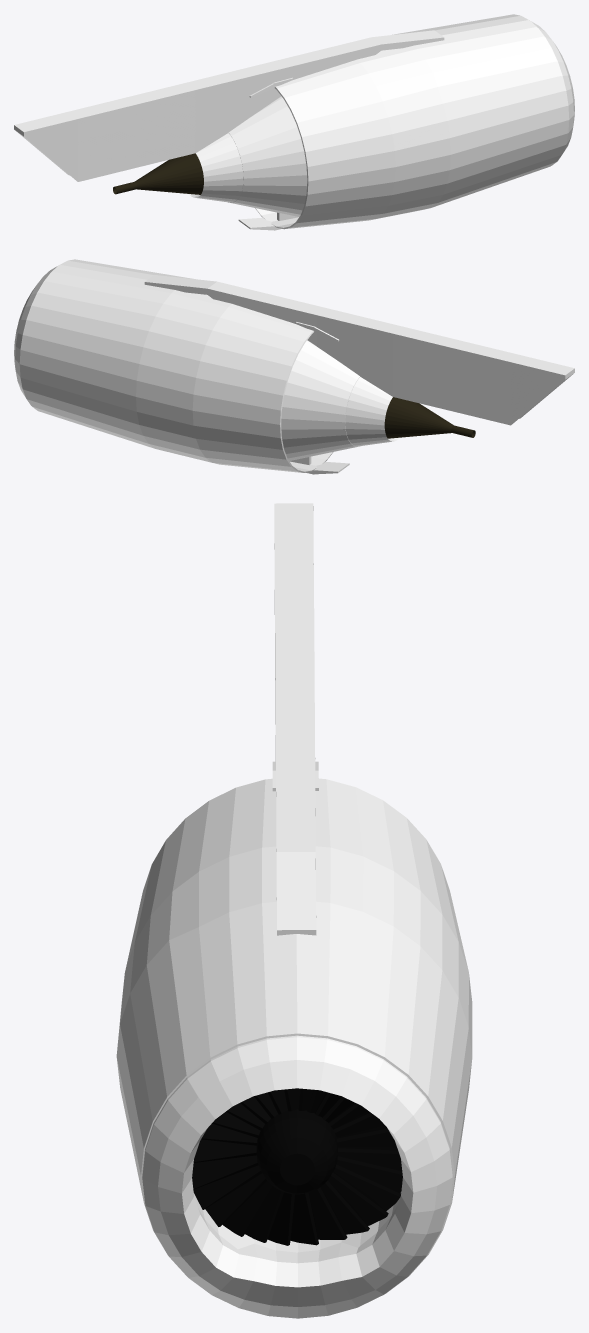
3 renders of one model, top to bottom at view 1: azimuth 30°, elevation 25°; view 2: azimuth 150°, elevation 25°; view 3: azimuth 270°, elevation 25°, orthographic. The views are drawn at different scales.
Parts seen in each view (by area): view 1: 円柱, 立方体.003, 円柱.004, 円柱.005, 円柱.006, 円柱.003, 立方体.001; view 2: 円柱, 立方体.003, 円柱.004, 円柱.005, 円柱.006, 円柱.003, 立方体.001; view 3: 円柱, 円柱.003, 円柱.007, 立方体.003.
Boxes of the visible parts, bbox=[...] form: 円柱: bbox=[255, 14, 567, 229]; 立方体.003: bbox=[14, 30, 444, 181]; 円柱.004: bbox=[228, 96, 307, 216]; 円柱.005: bbox=[189, 133, 243, 202]; 円柱.006: bbox=[113, 153, 203, 194]; 円柱.003: bbox=[526, 18, 574, 165]; 立方体.001: bbox=[238, 217, 281, 230]; 円柱: bbox=[20, 259, 333, 472]; 立方体.003: bbox=[144, 275, 574, 425]; 円柱.004: bbox=[281, 340, 360, 460]; 円柱.005: bbox=[345, 377, 399, 446]; 円柱.006: bbox=[384, 397, 475, 438]; 円柱.003: bbox=[14, 262, 64, 405]; 立方体.001: bbox=[306, 461, 349, 474]; 円柱: bbox=[116, 778, 472, 1293]; 円柱.003: bbox=[142, 1035, 452, 1318]; 円柱.007: bbox=[192, 1088, 402, 1245]; 立方体.003: bbox=[274, 503, 316, 935].
Bounding box in the file's own units: 8.75 × 2.67 × 2.56.
